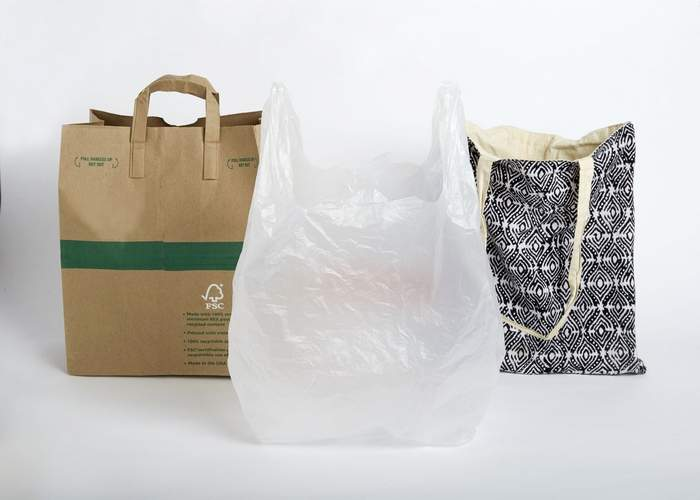Nonrec_Plastic: (229, 84, 504, 460), (45, 69, 277, 398), (458, 100, 660, 410)
